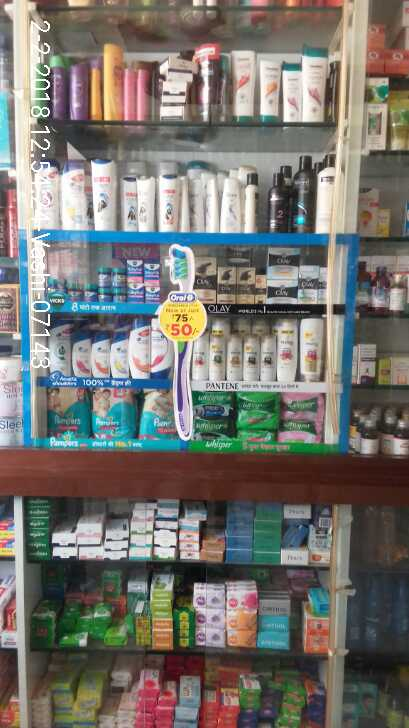beauty: (127, 318, 150, 380), (300, 317, 321, 380), (267, 247, 301, 278), (110, 332, 130, 379), (242, 334, 260, 383), (259, 333, 277, 381), (72, 334, 92, 376), (90, 334, 110, 375), (298, 265, 319, 304), (225, 335, 243, 379), (217, 265, 235, 305), (236, 265, 254, 304), (268, 280, 297, 303)
pharmacy: (91, 387, 139, 438), (47, 386, 95, 436), (193, 390, 235, 433), (235, 391, 280, 429), (281, 393, 326, 422), (126, 258, 144, 284), (82, 282, 97, 300), (112, 266, 126, 285), (97, 267, 111, 285)
